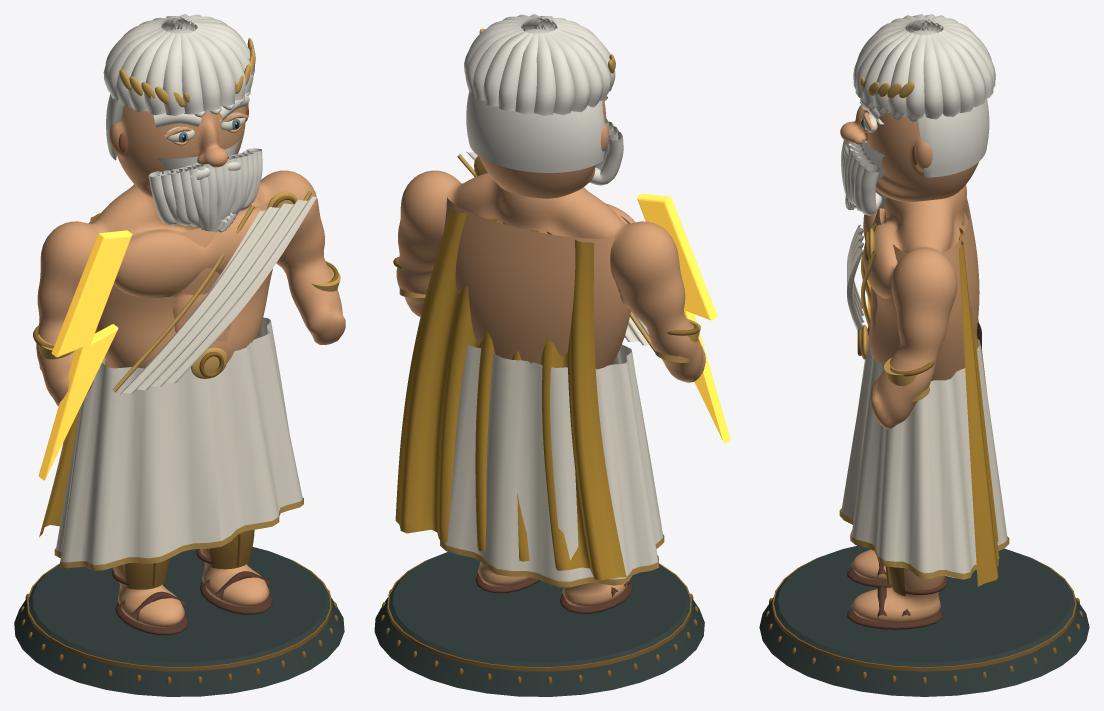
Rendered from zeus-97f0865cfc5d.glb.
The picture shows the model from 3 angles, left to right: view 1: azimuth 30°, elevation 25°; view 2: azimuth 150°, elevation 25°; view 3: azimuth 270°, elevation 25°; orthographic projection.
Parts seen in each view (by area): view 1: Body Signature cloth, Body Skin, Body Basalt, Head Hair, Body Lightning, Head Skin, Body Engraved metal, Body Metal, Body Leather, Cape Linen, Head Metal; view 2: Body Skin, Cape Linen, Body Signature cloth, Body Basalt, Head Hair, Body Lightning, Head Skin, Body Engraved metal, Body Metal, Body Leather; view 3: Body Basalt, Body Signature cloth, Body Skin, Head Hair, Head Skin, Cape Linen, Body Engraved metal, Body Metal, Body Leather, Head Metal.
Part boxes in pixels (<box>): Body Signature cloth: <box>56,196,316,568</box>; Body Skin: <box>36,170,345,627</box>; Body Basalt: <box>14,547,344,696</box>; Head Hair: <box>103,14,262,232</box>; Body Lightning: <box>38,230,132,480</box>; Head Skin: <box>109,103,248,198</box>; Body Engraved metal: <box>20,196,338,683</box>; Body Metal: <box>38,191,340,570</box>; Body Leather: <box>111,549,272,635</box>; Cape Linen: <box>39,213,109,537</box>; Head Metal: <box>119,38,255,107</box>; Body Skin: <box>396,170,705,607</box>; Cape Linen: <box>395,208,626,580</box>; Body Signature cloth: <box>443,151,663,581</box>; Body Basalt: <box>374,552,704,696</box>; Head Hair: <box>464,14,623,185</box>; Body Lightning: <box>637,193,730,443</box>; Head Skin: <box>479,96,608,198</box>; Body Engraved metal: <box>381,256,698,683</box>; Body Metal: <box>398,154,700,587</box>; Body Leather: <box>475,561,633,613</box>; Body Basalt: <box>759,545,1089,696</box>; Body Signature cloth: <box>841,225,1007,577</box>; Body Skin: <box>851,185,979,622</box>; Head Hair: <box>841,14,995,215</box>; Head Skin: <box>840,105,978,202</box>; Cape Linen: <box>958,208,999,586</box>; Body Engraved metal: <box>766,231,1082,683</box>; Body Metal: <box>839,222,1009,579</box>; Body Leather: <box>847,322,981,629</box>; Head Metal: <box>860,78,914,98</box>.
Bounding box in the file's own units: 1.96 × 3.61 × 1.8.
